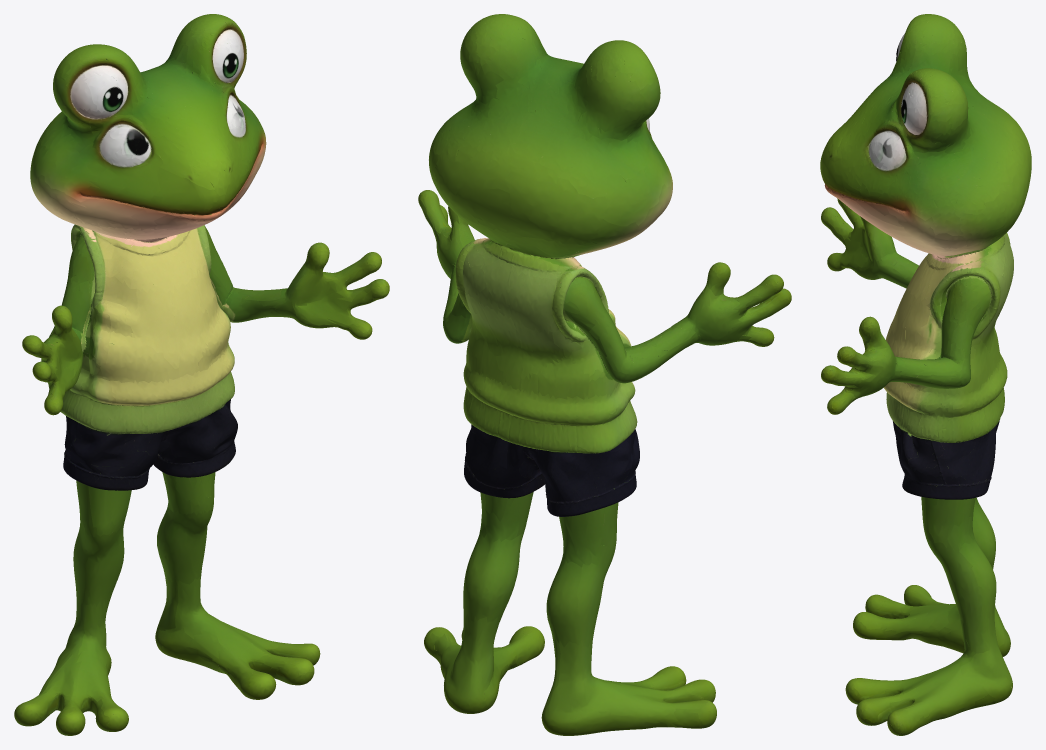
Rendered from A_remeshed.glb.
3 views of the same model, side by side, from view 1: azimuth 30°, elevation 25°; view 2: azimuth 150°, elevation 25°; view 3: azimuth 270°, elevation 25° (orthographic). The views are drawn at different scales.
Parts seen in each view (by area): view 1: output_unwrapped; view 2: output_unwrapped; view 3: output_unwrapped.
Boxes of the visible parts, left/top/right/bottom form: output_unwrapped: left=14, top=14, right=389, bottom=735; output_unwrapped: left=418, top=14, right=791, bottom=735; output_unwrapped: left=820, top=14, right=1031, bottom=735.
Size of the model in its own units: 1.09 by 1.9 by 0.5845.
Materials: 1 (1 with a texture image).
